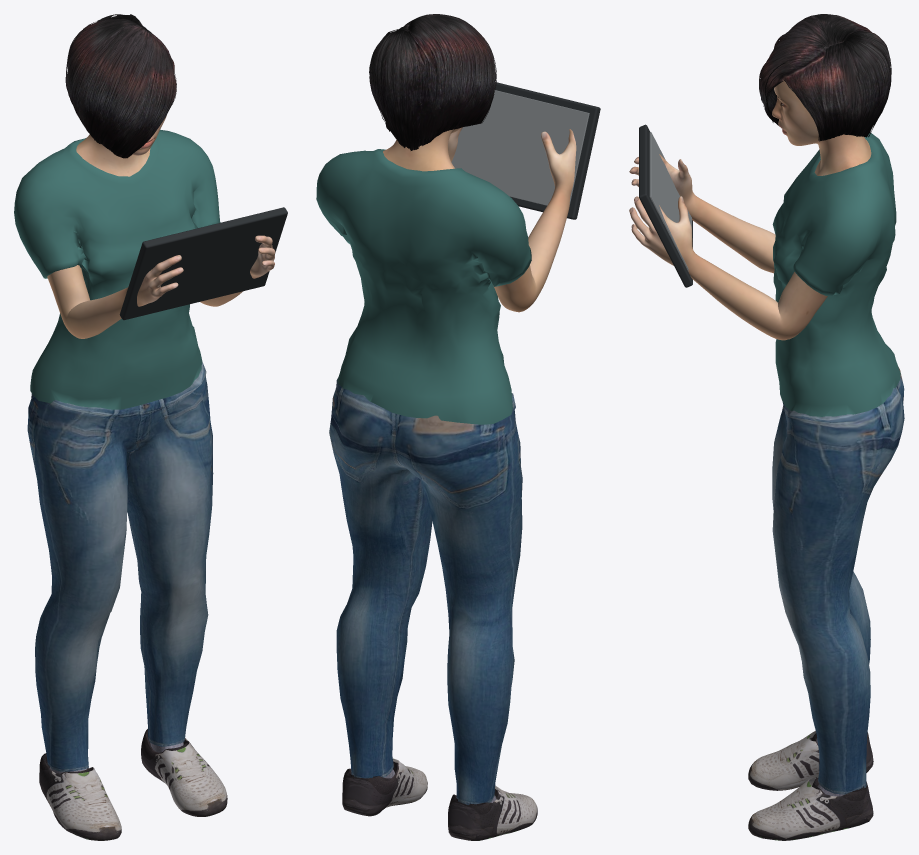
The model's file is inspector-tablet.glb.
3 views of the same model, side by side, from view 1: azimuth 30°, elevation 25°; view 2: azimuth 150°, elevation 25°; view 3: azimuth 270°, elevation 25° (orthographic). The views are drawn at different scales.
Visible parts, largest first — view 1: female_casualsuit01, bob01, Tablet case, shoes05, Riley | anatomical body; view 2: female_casualsuit01, bob01, Tablet display, Riley | anatomical body, shoes05, Tablet case; view 3: female_casualsuit01, Riley | anatomical body, bob01, shoes05, Tablet case, Tablet display.
Boxes of the visible parts, box(x1,y1,x2,y2) form: female_casualsuit01: box(14, 129, 220, 771); bob01: box(65, 14, 176, 158); Tablet case: box(119, 207, 287, 320); shoes05: box(39, 729, 227, 840); Riley | anatomical body: box(47, 116, 275, 338); female_casualsuit01: box(316, 149, 531, 804); bob01: box(369, 14, 496, 150); Tablet display: box(451, 90, 589, 205); Riley | anatomical body: box(383, 127, 576, 312); shoes05: box(342, 758, 537, 840); Tablet case: box(494, 82, 600, 219); female_casualsuit01: box(772, 133, 904, 794); Riley | anatomical body: box(629, 80, 871, 340); bob01: box(759, 14, 891, 141); shoes05: box(748, 731, 873, 840); Tablet case: box(639, 124, 692, 287); Tablet display: box(649, 132, 691, 276).
Size of the model in its own units: 0.43 by 1.67 by 0.5299.
Materials: 11 (10 with a texture image).
